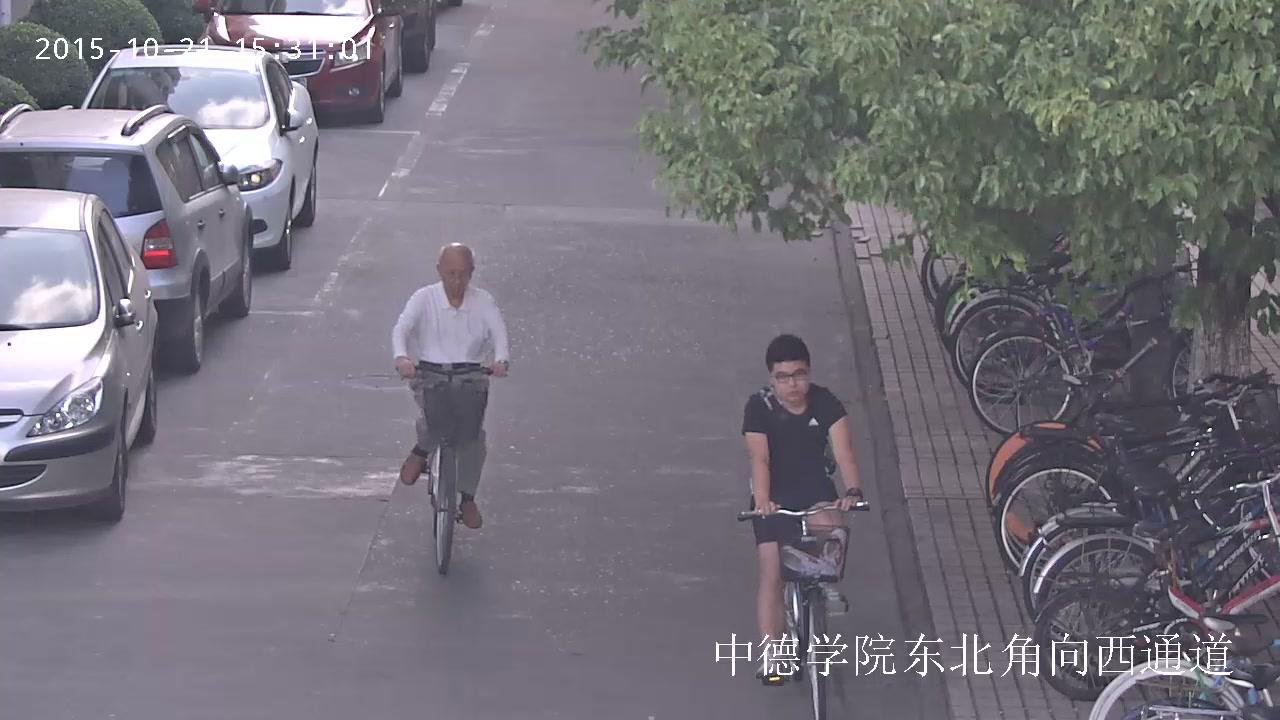face: (773, 360, 809, 401), (440, 257, 470, 295)
